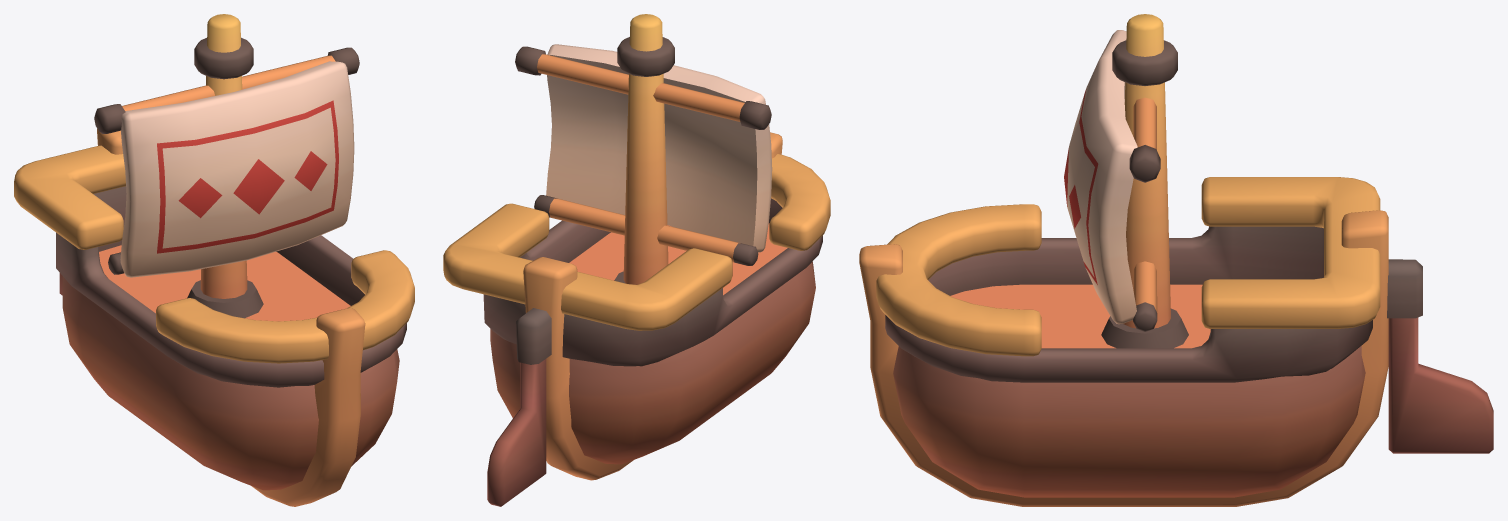
File: Boat_01.glb
3 renders of one model, left to right at view 1: azimuth 30°, elevation 25°; view 2: azimuth 150°, elevation 25°; view 3: azimuth 270°, elevation 25°, orthographic. The views are drawn at different scales.
Visible parts, largest first — view 1: Boat_01; view 2: Boat_01; view 3: Boat_01.
Part boxes in pixels (x1=…): Boat_01: x1=14, y1=14, x2=414, y2=506; Boat_01: x1=443, y1=14, x2=830, y2=506; Boat_01: x1=859, y1=14, x2=1493, y2=506.
Bounding box in the file's own units: 4.33 × 7.06 × 8.42.
2 materials, 2 textured.
